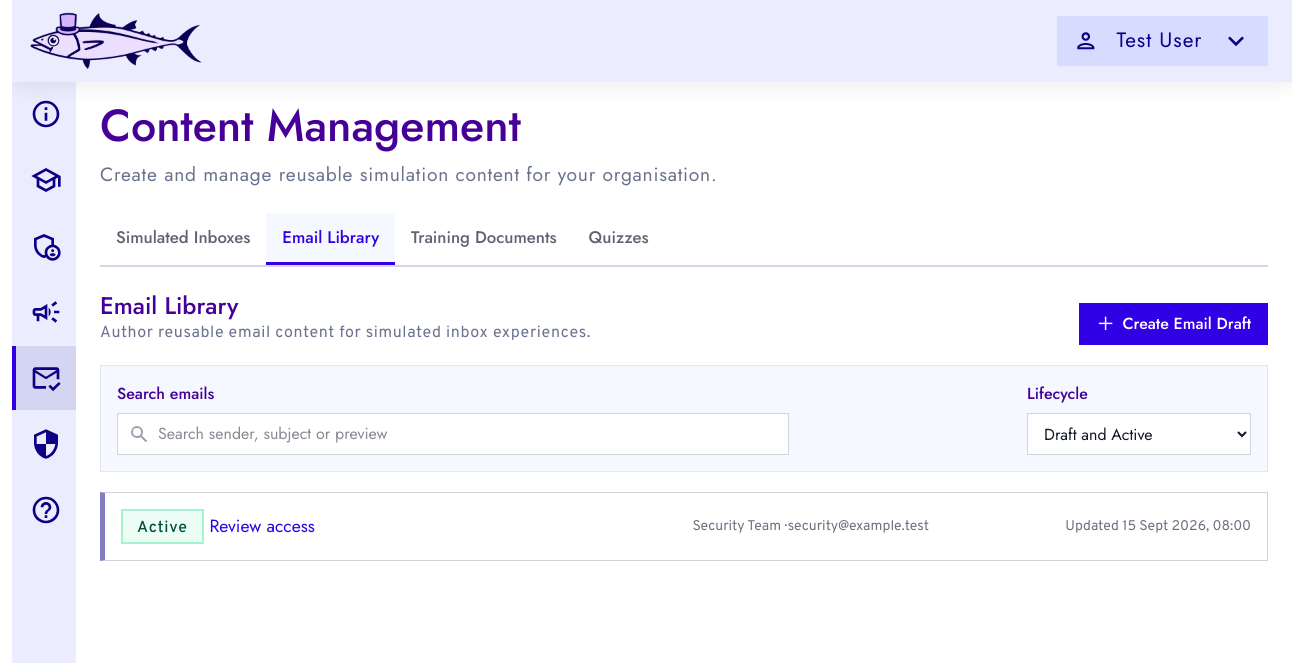
it: OrganisationContentManagementPage Email Library › makes Active records read-only and copies them into an editable Draft
Click the button "Review access": (162, 526) [100, 492, 1268, 560]
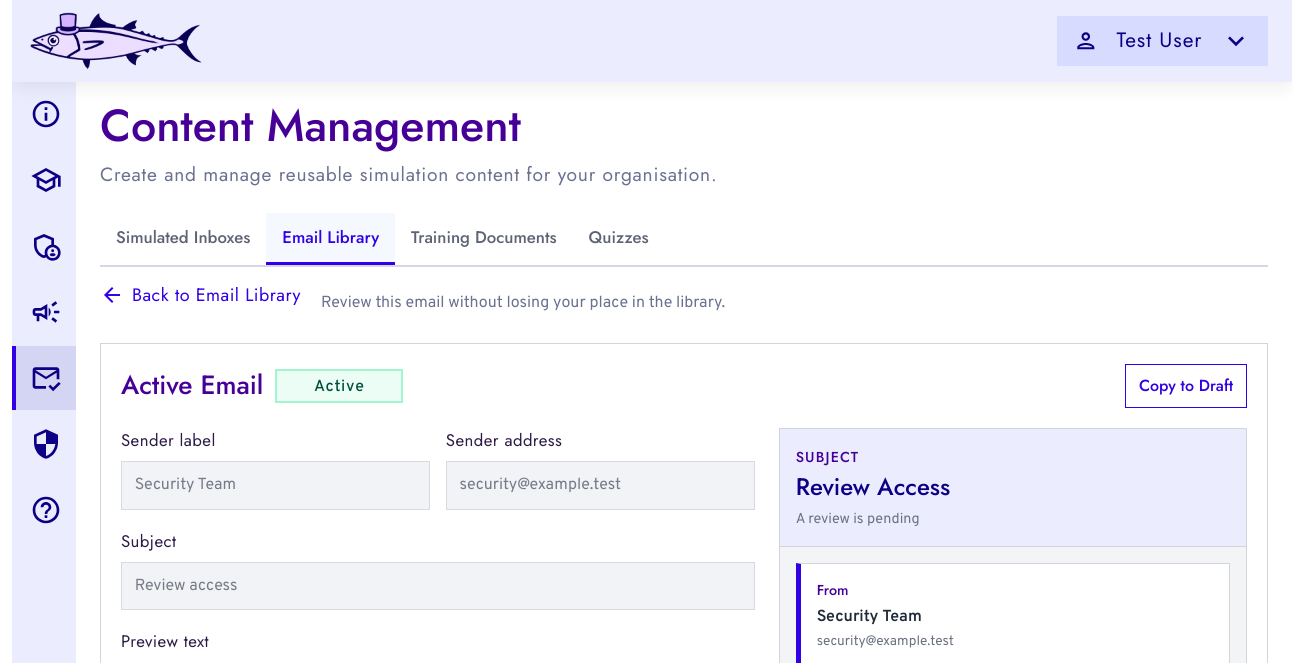
Check: the button "Save Draft" is not shown
Check: the heading "Active Email" is shown, box [121, 366, 263, 406]
Check: the field labelled "Subject" is disabled, box [121, 562, 755, 610]
Click the button "Copy to Draft": (1186, 386) [1125, 364, 1247, 408]
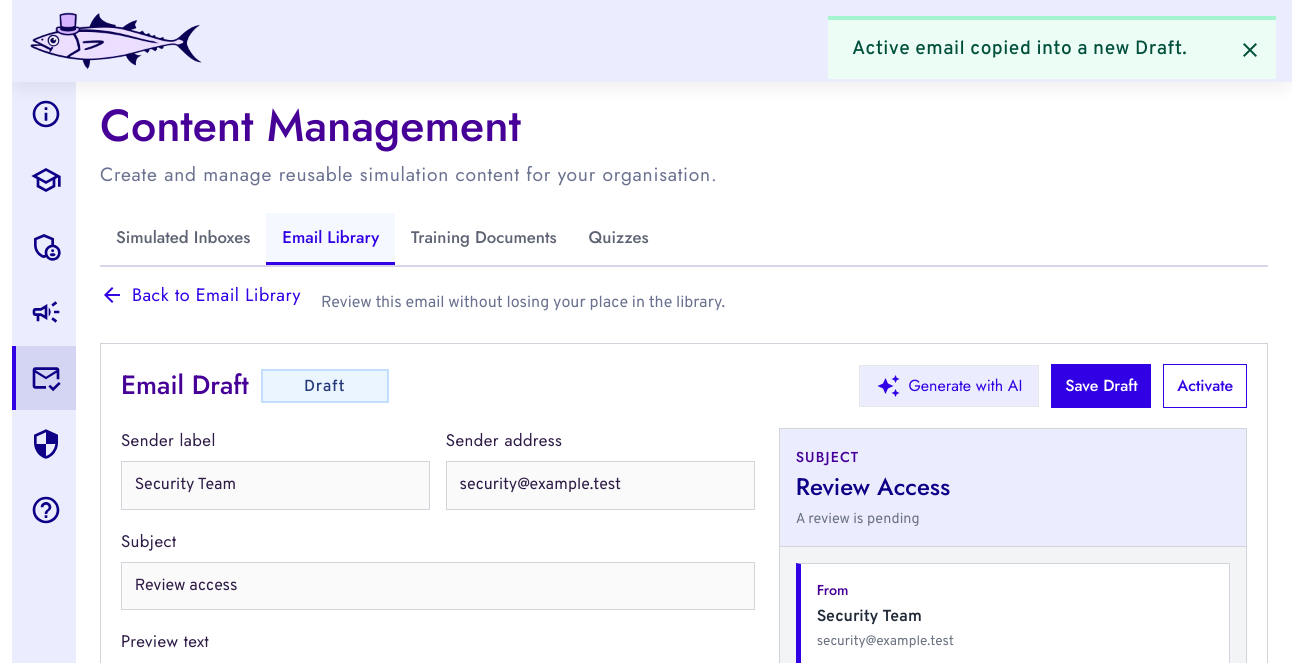
Check: the text "Active email copied into a new Draft." is shown, box [852, 36, 1187, 63]
Check: the field labelled "Subject" is enabled, box [121, 562, 755, 610]
